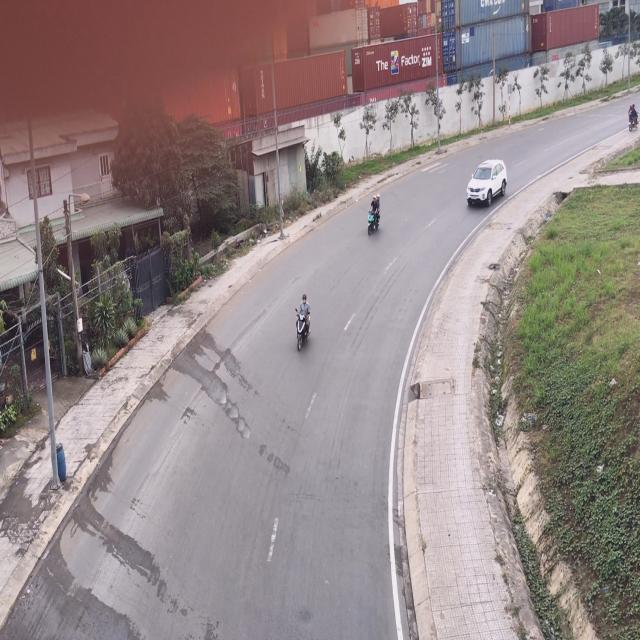car: (466, 160, 508, 209)
motorbike: (292, 293, 310, 354), (365, 191, 383, 238), (628, 99, 640, 131)
